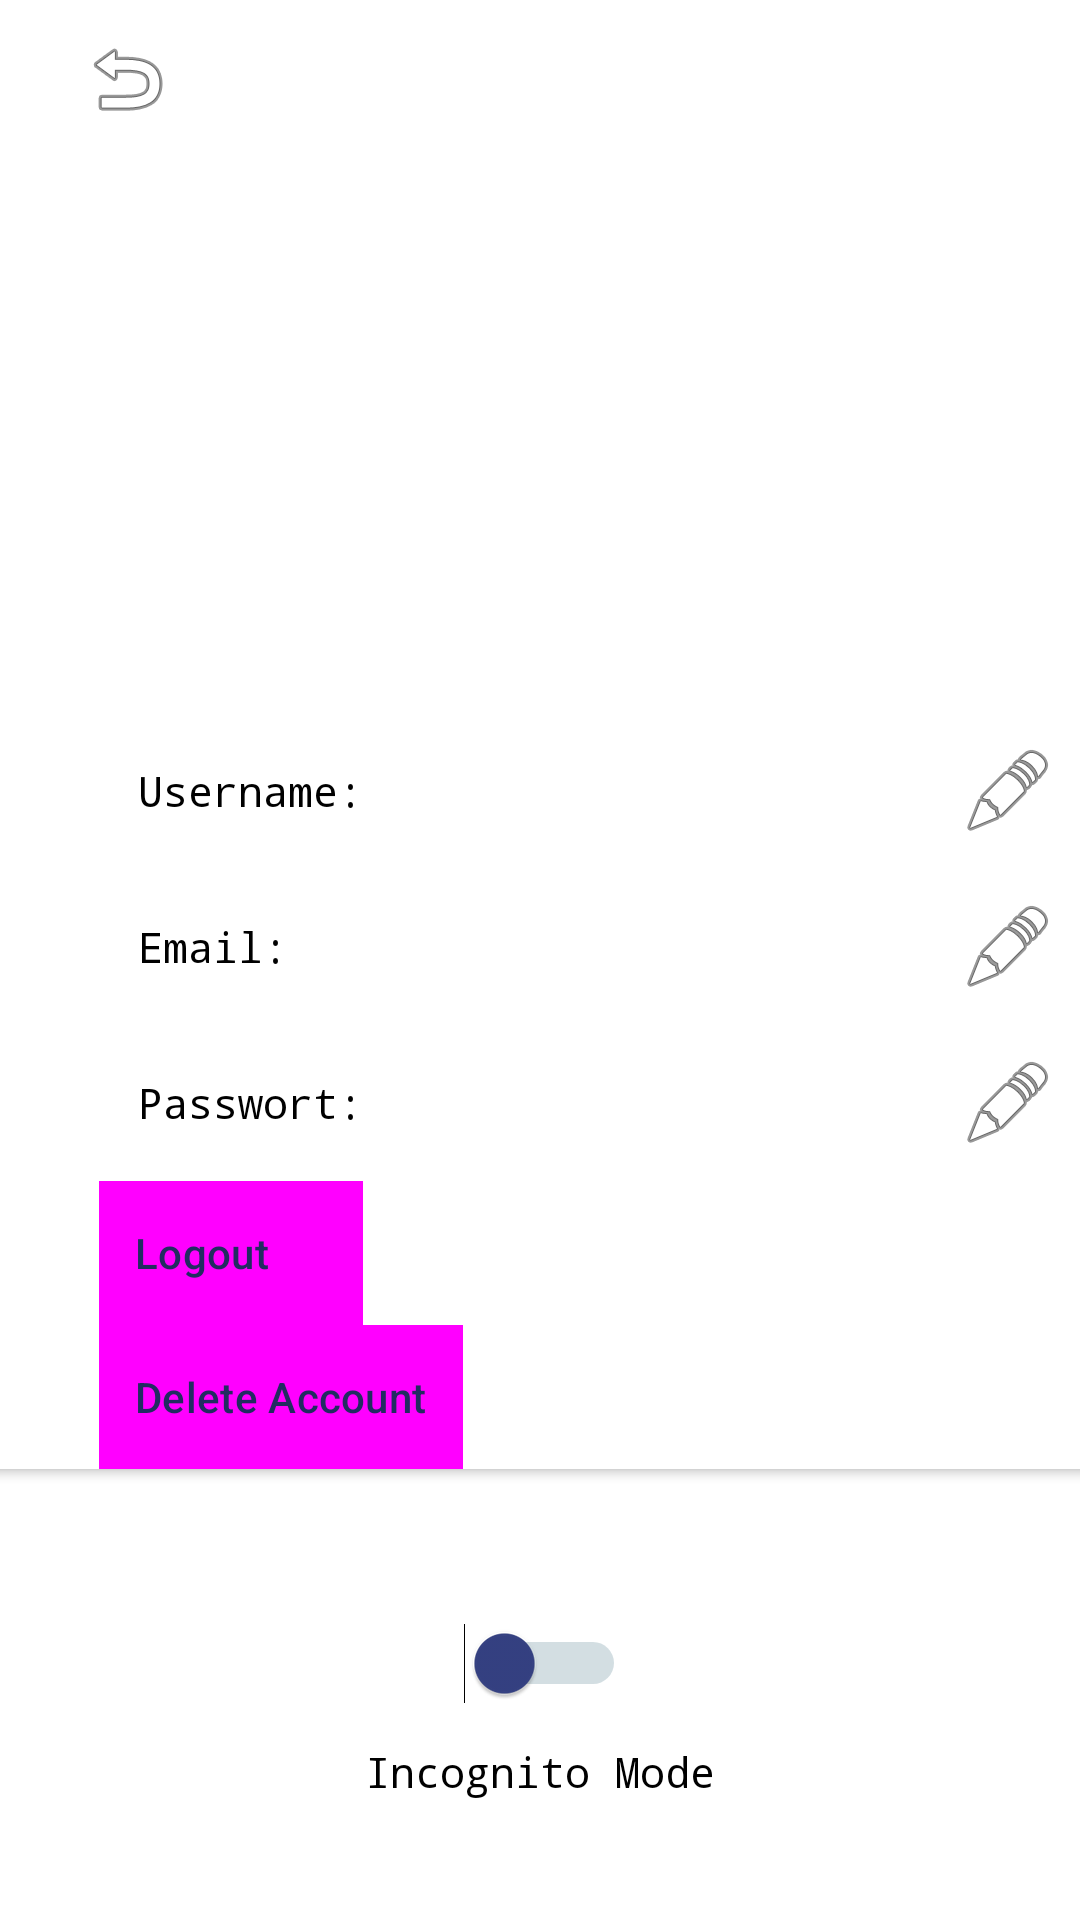

Named icons in this screenshot (1080 x 1920) and their bounding boxes, [x1,y1,x2,y2]:
edit: [967,750,1048,831], [967,906,1048,987], [967,1062,1048,1143]
zurück: [94,48,163,111]
